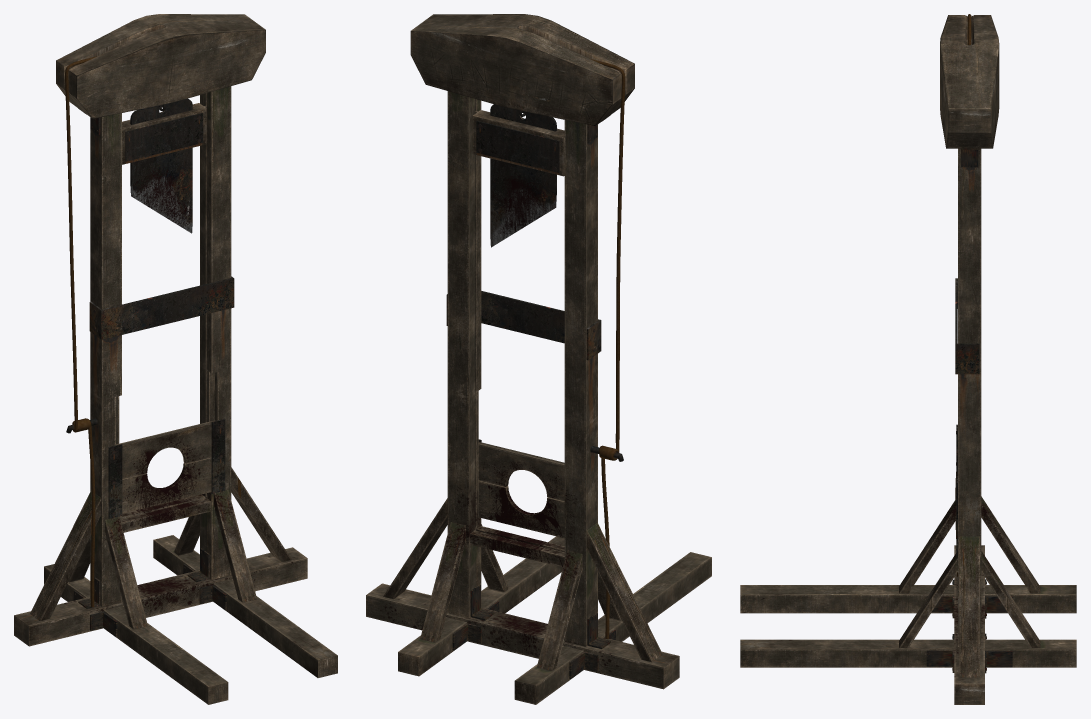
The model's file is guillotine.glb.
3 renders of one model, left to right at view 1: azimuth 30°, elevation 25°; view 2: azimuth 150°, elevation 25°; view 3: azimuth 270°, elevation 25°, orthographic. The views are drawn at different scales.
Visible parts, largest first — view 1: Guillotine; view 2: Guillotine; view 3: Guillotine.
Part boxes in pixels (x1,y1,x2,y2): Guillotine: (14, 14, 337, 704); Guillotine: (366, 14, 711, 704); Guillotine: (740, 14, 1076, 704).
Size of the model in its own units: 215 by 428 by 220.
Materials: 1 (1 with a texture image).
